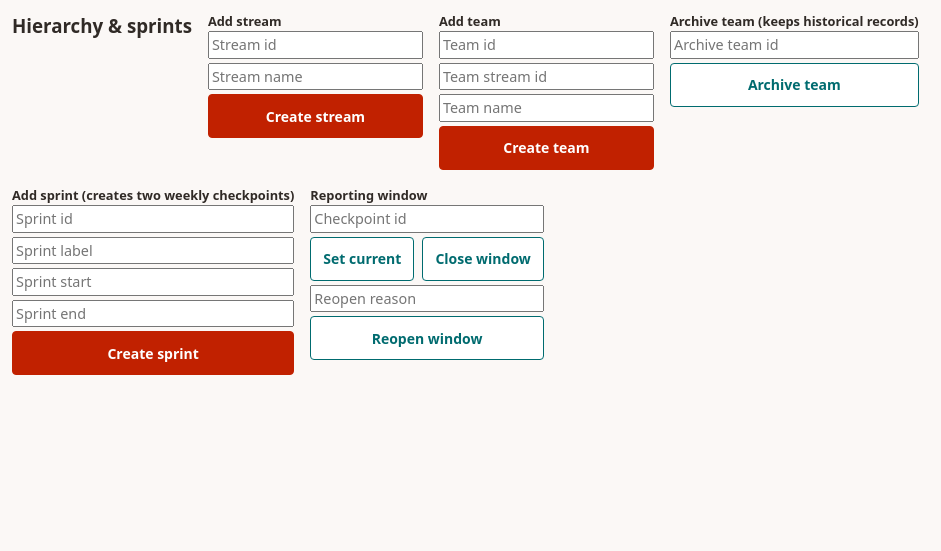
HierarchyAdmin › archives a team and confirms historical records remain available
In the field labelled "Archive team id": (794, 45) x1=670 y1=31 x2=919 y2=59, type "arch-a"
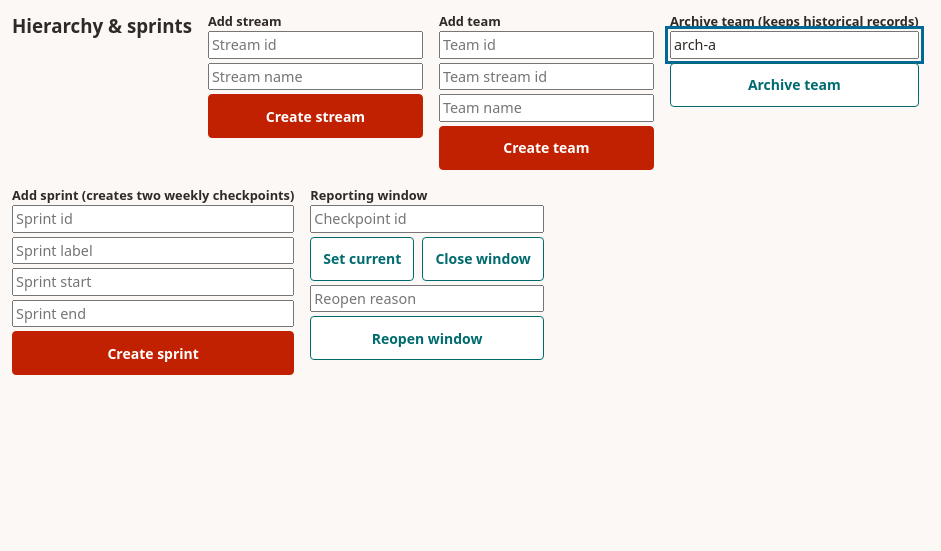
Click the button "Archive team": (794, 85) x1=670 y1=63 x2=919 y2=107
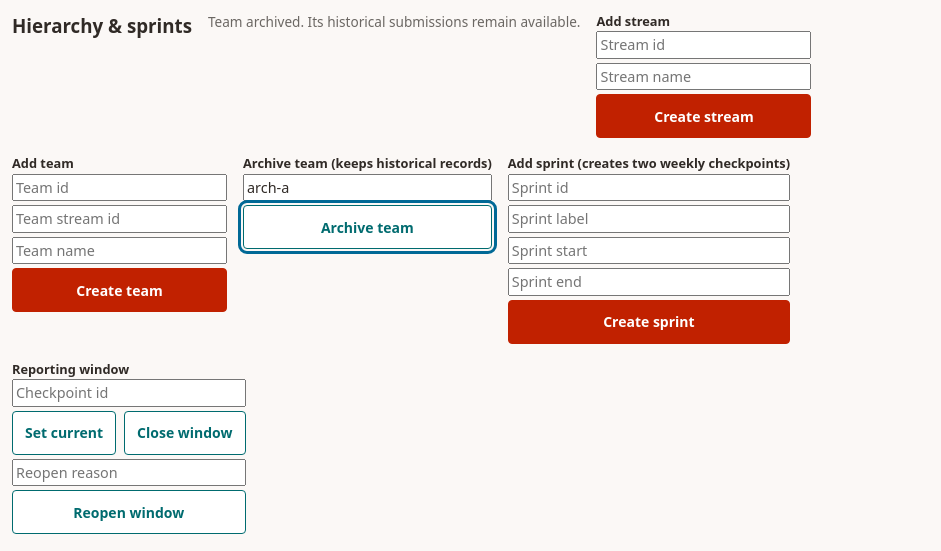
Check: the message shows "historical submissions remain", box x1=208 y1=12 x2=580 y2=31
